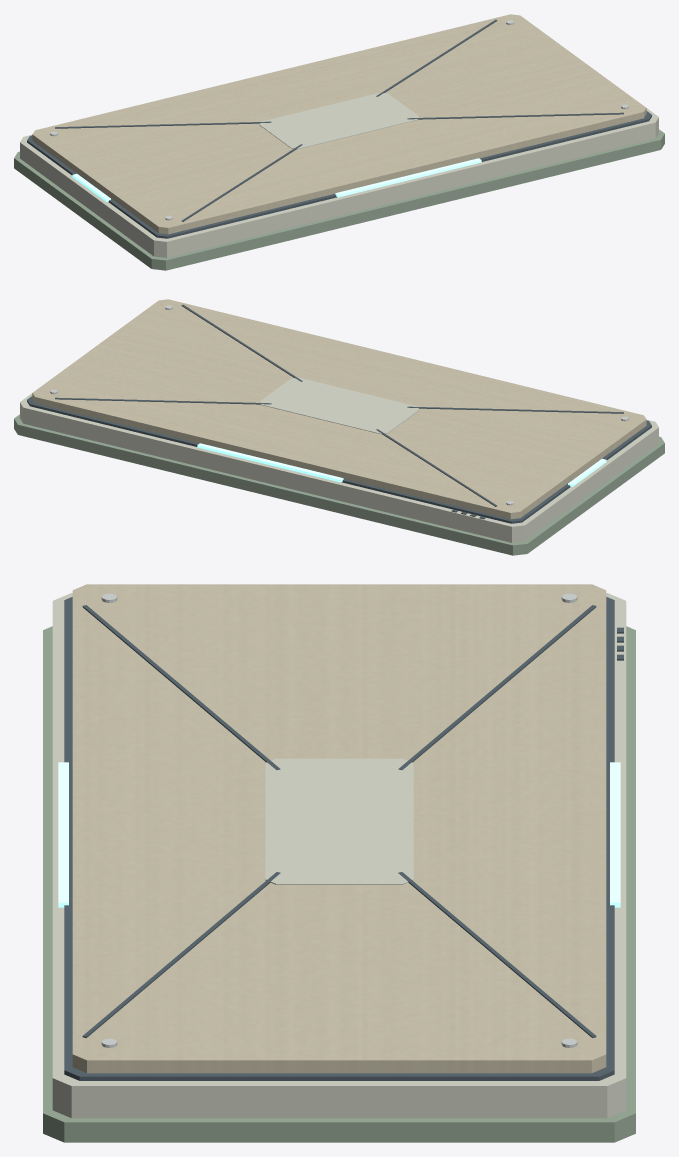
Rendered from m01-metal-half-x.glb.
3 views of the same model, one above another, from view 1: azimuth 30°, elevation 25°; view 2: azimuth 150°, elevation 25°; view 3: azimuth 270°, elevation 25° (orthographic). The views are drawn at different scales.
Parts seen in each view (by area): view 1: half-x/003, half-x/001, half-x/000, half-x/004, half-x/002, half-x/014, half-x/008, half-x/005; view 2: half-x/003, half-x/001, half-x/000, half-x/004, half-x/002, half-x/013, half-x/007, half-x/006; view 3: half-x/003, half-x/001, half-x/000, half-x/004, half-x/002, half-x/013, half-x/014, half-x/007, half-x/008, half-x/005, half-x/006.
Boxes of the visible parts, x1,y1,x2,y2 form: half-x/003: [32, 14, 646, 234]; half-x/001: [20, 108, 658, 257]; half-x/000: [14, 129, 664, 270]; half-x/004: [259, 92, 419, 149]; half-x/002: [27, 111, 651, 238]; half-x/014: [335, 158, 481, 197]; half-x/008: [407, 112, 623, 119]; half-x/005: [55, 121, 271, 128]; half-x/003: [32, 299, 646, 519]; half-x/001: [20, 393, 658, 542]; half-x/000: [14, 414, 664, 555]; half-x/004: [259, 377, 419, 434]; half-x/002: [27, 396, 651, 523]; half-x/013: [197, 443, 343, 482]; half-x/007: [55, 397, 271, 404]; half-x/006: [407, 406, 623, 413]; half-x/003: [72, 584, 606, 1073]; half-x/001: [52, 593, 626, 1118]; half-x/000: [43, 626, 635, 1142]; half-x/004: [265, 758, 413, 884]; half-x/002: [64, 597, 614, 1080]; half-x/013: [610, 762, 620, 907]; half-x/014: [58, 762, 68, 907]; half-x/007: [398, 872, 596, 1037]; half-x/008: [82, 872, 280, 1037]; half-x/005: [398, 605, 596, 769]; half-x/006: [82, 605, 280, 769].
Size of the model in its own units: 1 by 0.0678 by 0.5.
6 materials, 1 textured.
